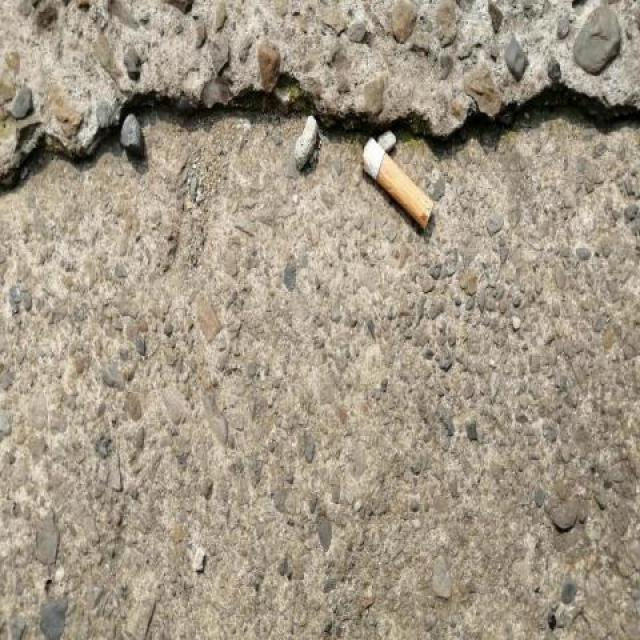non-organic waste: (357, 134, 439, 235)
